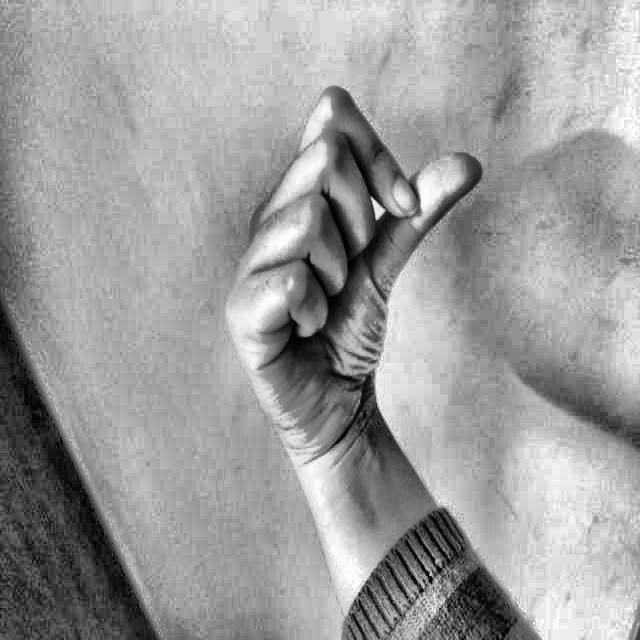Ay: (213, 63, 494, 477)
